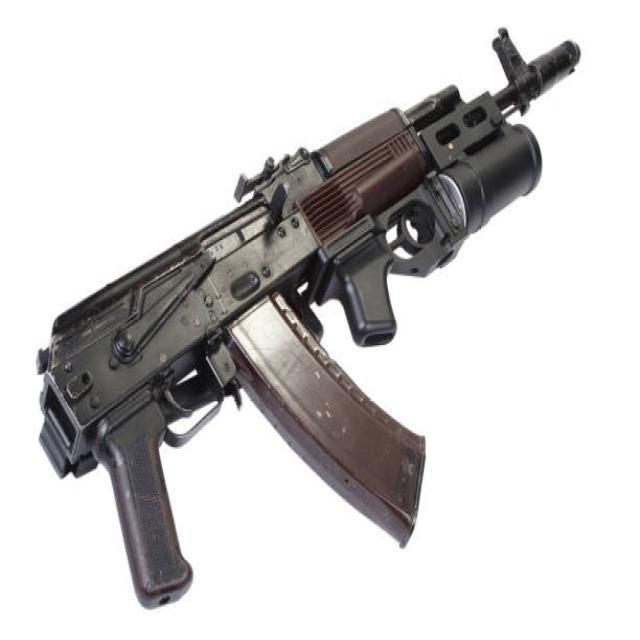rifle: (26, 16, 589, 640)
